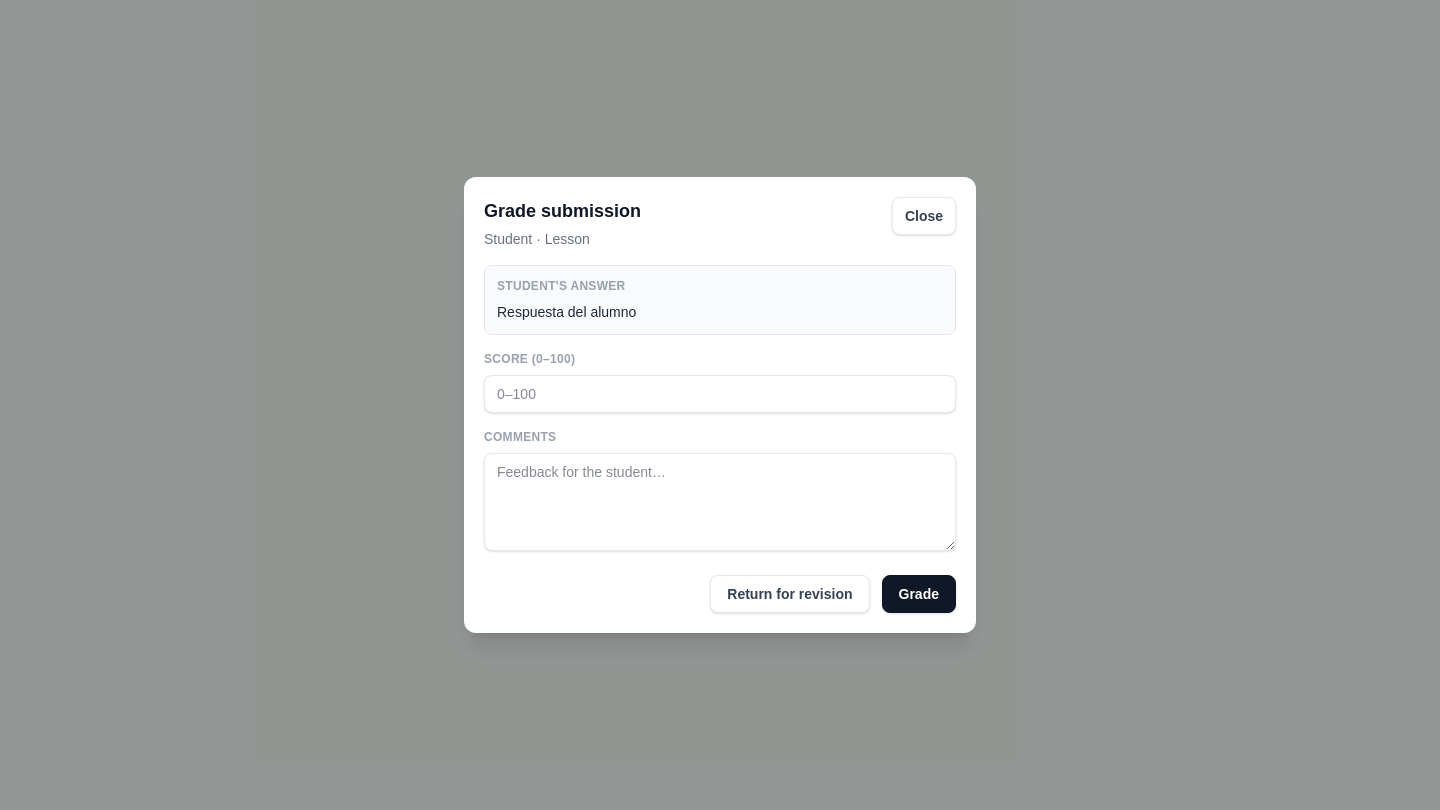
GradeSubmissionModal - campo de nota › ignora un segundo punto decimal
This screenshot has width=1440, height=810.
In the field labelled "Score (0–100)": (720, 394) [484,375,956,413], type "8.7.5"
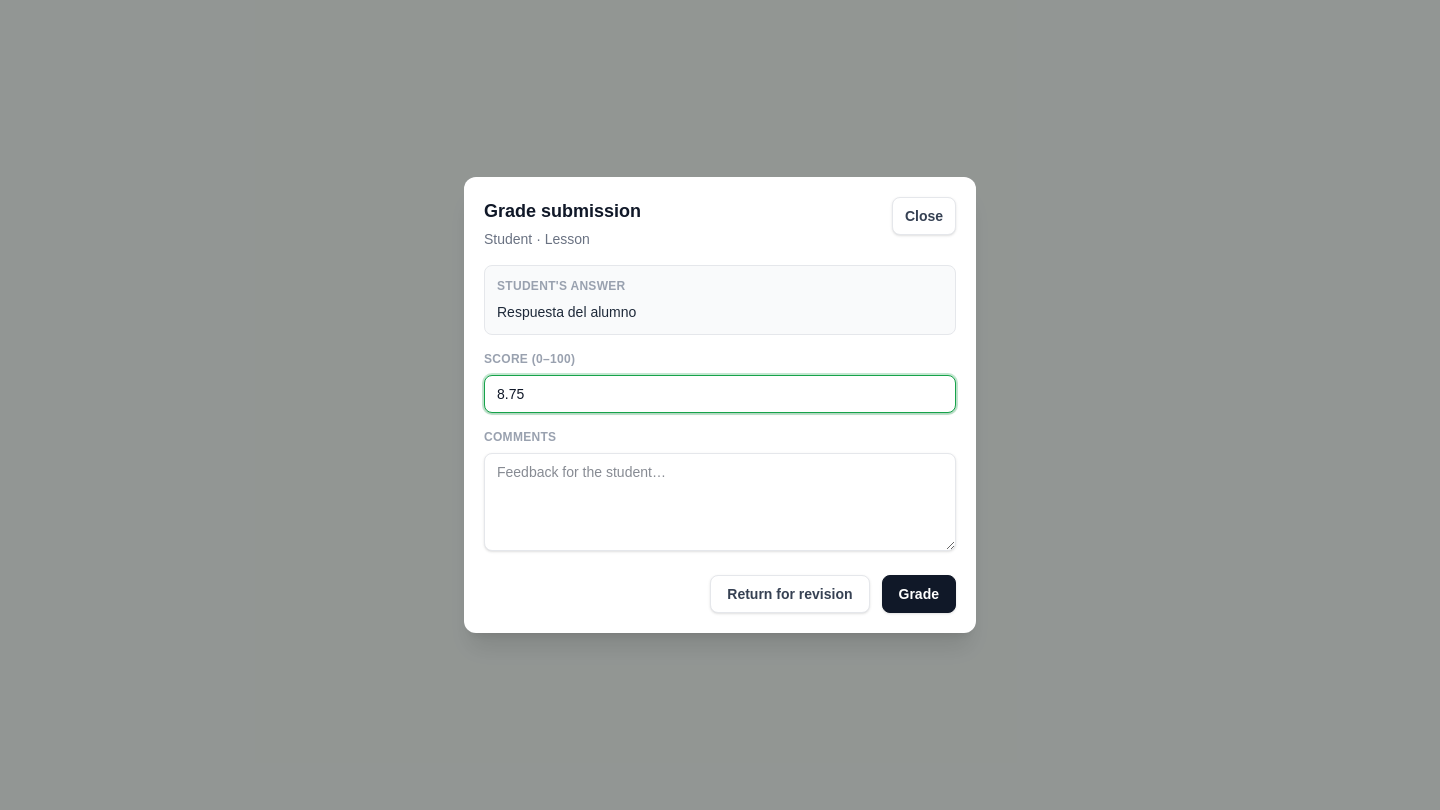
Result: the field labelled "Score (0–100)" holds "8.75" at [484,375,956,413]
